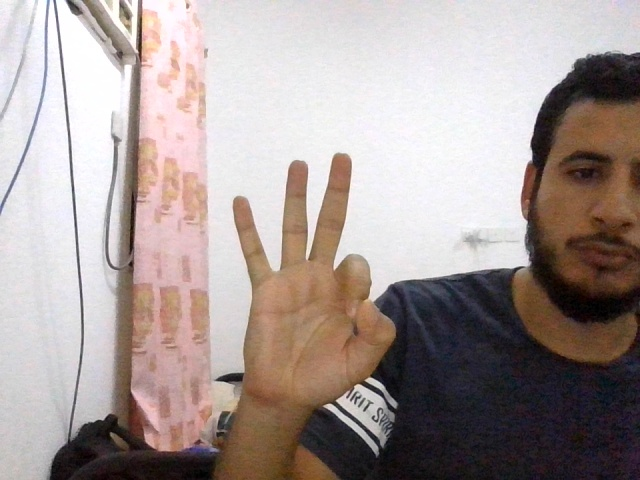Three: (231, 153, 397, 404)
